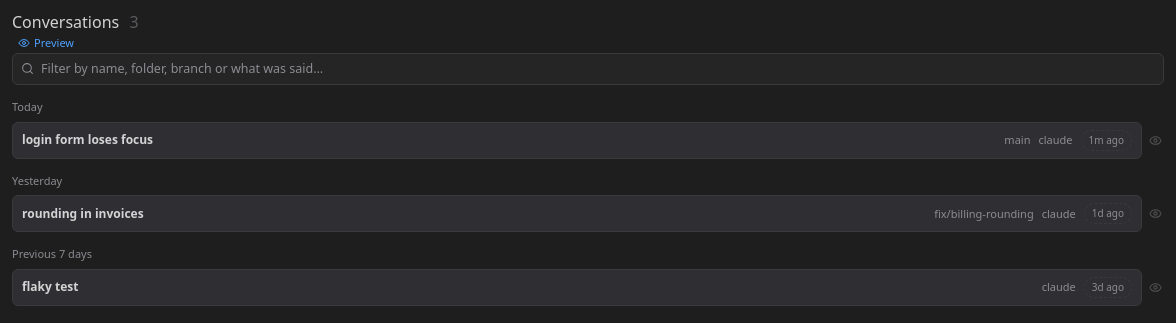
Scenario: the filter › narrows by name, folder and branch at once, while the search of what was said runs
In the search field named "Filter conversations": (588, 69) [12,52,1164,85], type "billing"
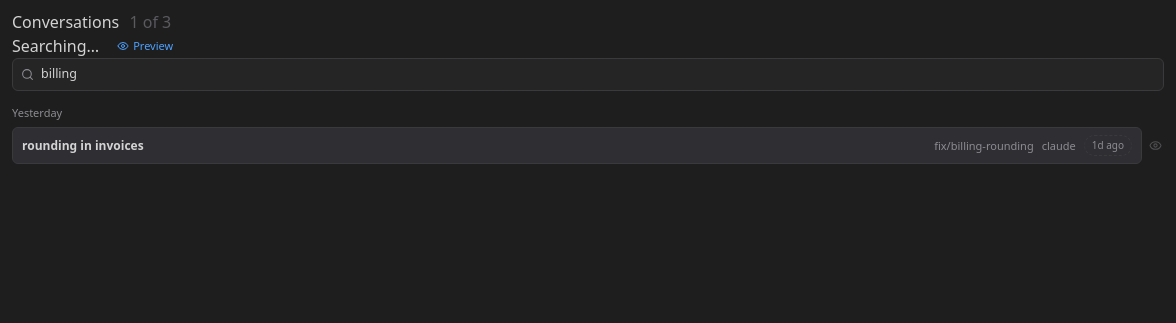
Check: the text "Searching…" is shown, box [12,34,99,58]
